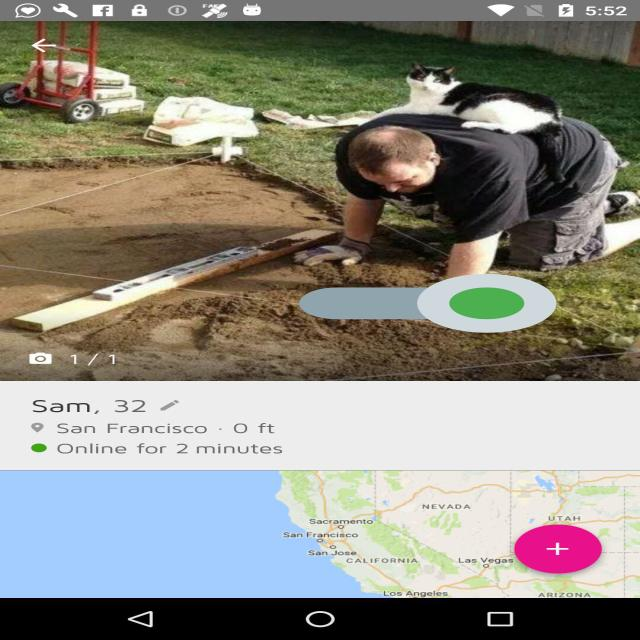social proof: (299, 249, 556, 358)
